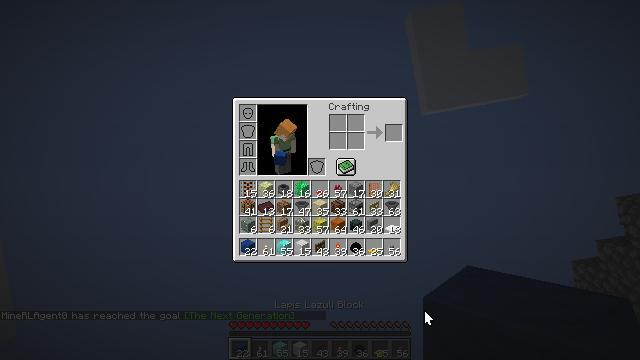cursor: (424, 310, 434, 326)
